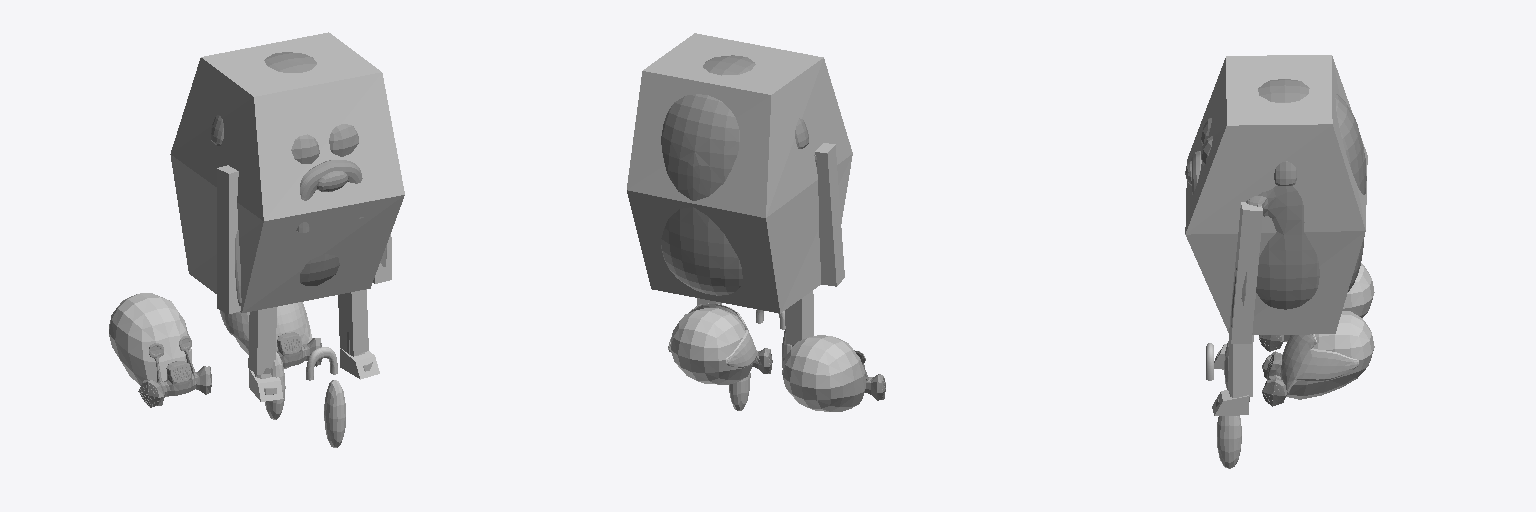
The model's file is Skeleton.obj.
3 views of the same model, side by side, from view 1: azimuth 30°, elevation 25°; view 2: azimuth 150°, elevation 25°; view 3: azimuth 270°, elevation 25° (orthographic).
Parts seen in each view (by area): view 1: collision.001, Cube.004, NurbsPath.003_Mesh.003, collision.006_collision.002, Cube.013_Cube.016, Cube.002, collision.005_collision.004, Cube.003, collision.004_collision.003, Cube.009_Cube.011, Cube, collision.002_collision.006 (+3 smaller); view 2: collision.001, Cube.013_Cube.016, Cube.004, Cube.001, collision.006_collision.002, collision.004_collision.003, Cube.003; view 3: collision.001, Cube.013_Cube.016, collision, Cube.001, Cube.003, collision.005_collision.004, Cube.009_Cube.011, Cube.004, Cube, NurbsPath.003_Mesh.003, collision.002_collision.006.
Part boxes in pixels (x1,y1,x2,y2): collision.001: (170,32,404,312); Cube.004: (109,293,191,396); NurbsPath.003_Mesh.003: (291,124,363,232); collision.006_collision.002: (217,165,240,313); Cube.013_Cube.016: (211,52,386,394); Cube.002: (138,336,211,407); collision.005_collision.004: (338,289,368,356); Cube.003: (220,302,312,351); collision.004_collision.003: (248,307,276,374); Cube.009_Cube.011: (324,380,345,447); Cube: (277,332,321,367); collision.002_collision.006: (340,348,379,379); collision.001: (627,33,852,313); Cube.013_Cube.016: (661,55,816,345); Cube.004: (782,335,865,411); Cube.001: (670,308,752,384); collision.006_collision.002: (815,143,844,286); collision.004_collision.003: (785,291,813,344); Cube.003: (668,303,761,367); collision.001: (1185,55,1367,334); Cube.013_Cube.016: (1215,79,1366,406); collision: (1229,202,1262,343); Cube.001: (1286,311,1374,399); Cube.003: (1280,334,1358,392); collision.005_collision.004: (1228,335,1253,397); Cube.009_Cube.011: (1217,416,1241,468); Cube.004: (1284,263,1374,341); Cube: (1262,351,1286,406); NurbsPath.003_Mesh.003: (1185,118,1212,194); collision.002_collision.006: (1212,390,1248,415).
Size of the model in its own units: 6.23 by 9.58 by 4.4.